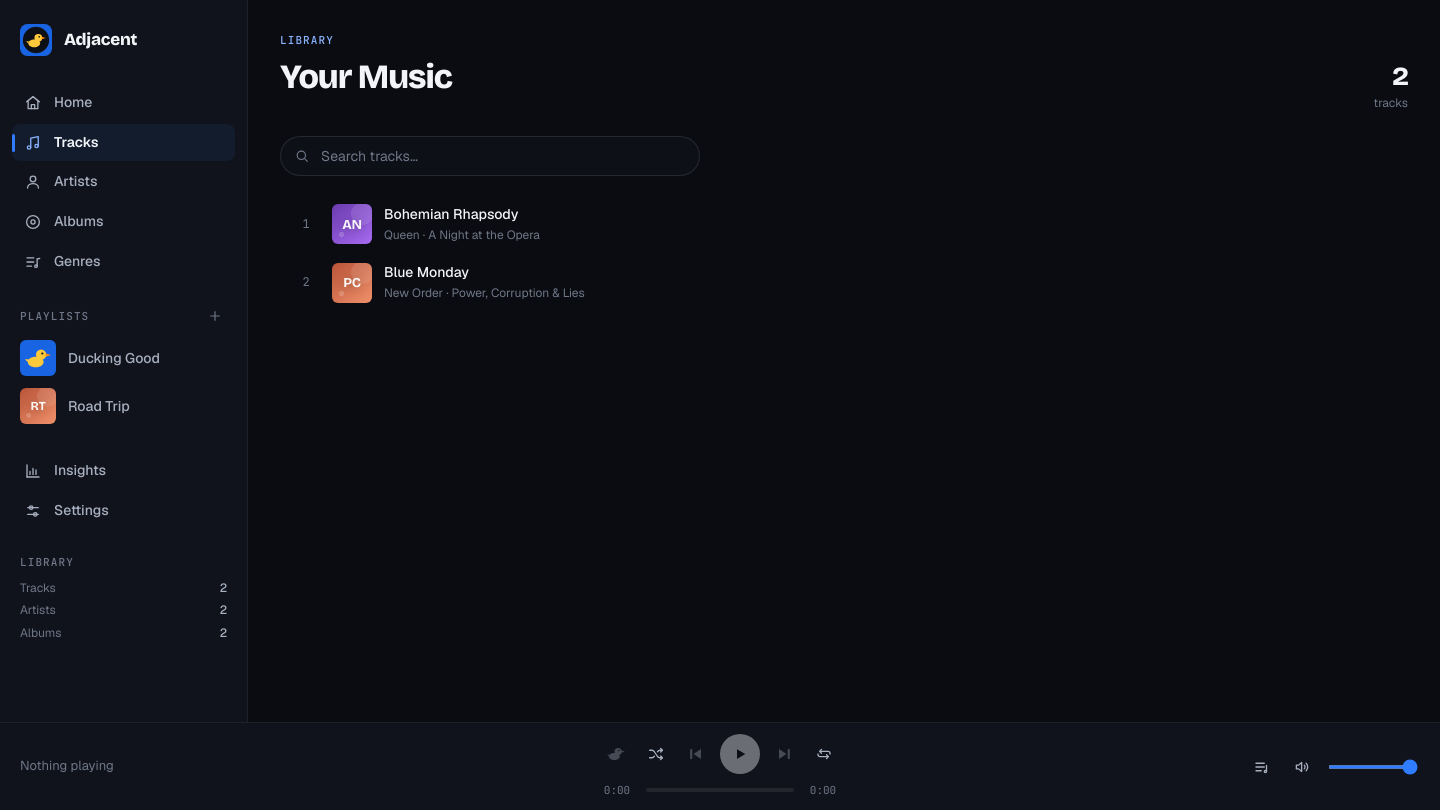
Scenario: Adjacent › navigates to an artist and filters to their tracks
Expected: the navigation bar named "Library" is shown, [12,84,235,280]
What coordinates should you click on to do the following:
click the link with class "nav-item" showing "Artists"
I would click on:
 (61, 182)
Its box is [24,172,97,191].
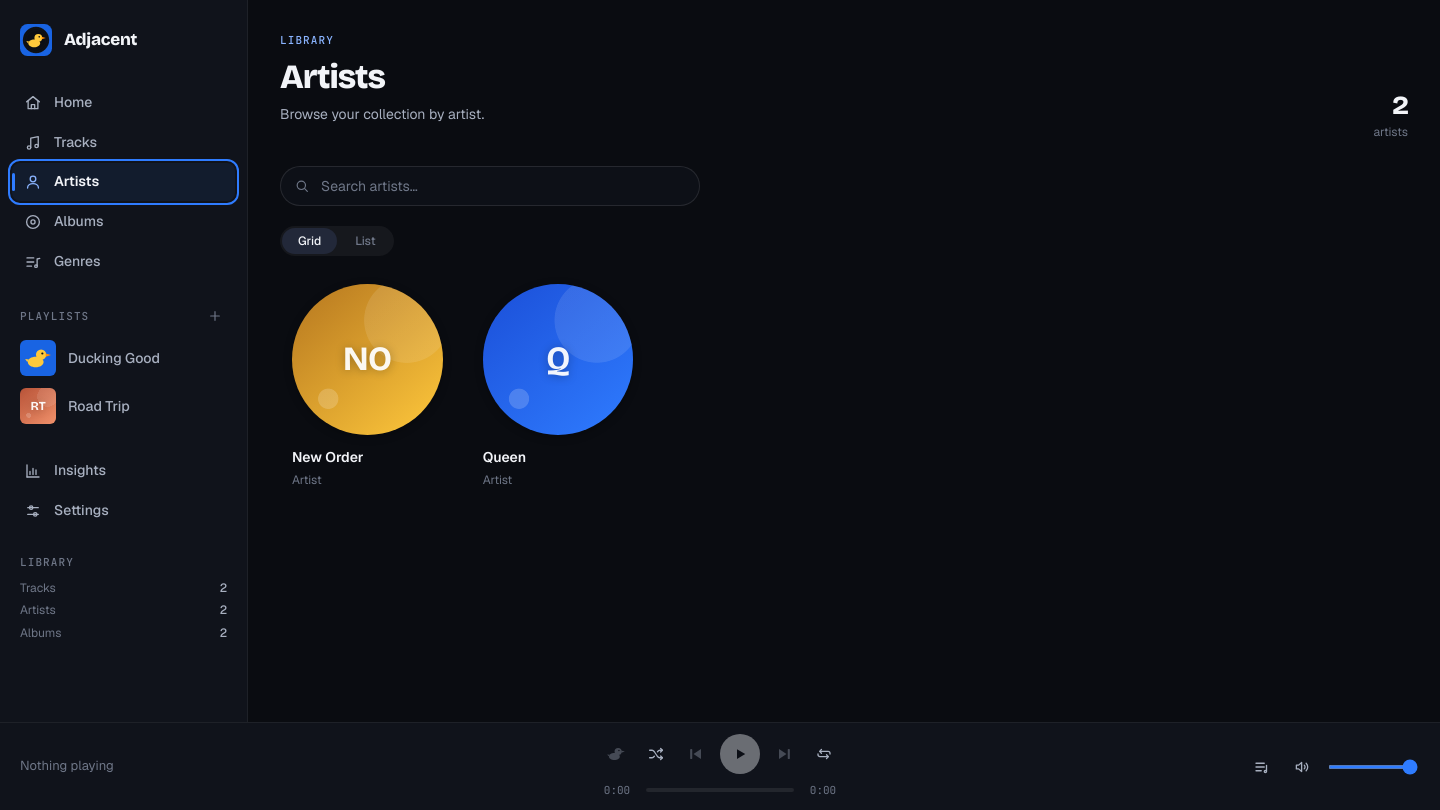
What coordinates should you click on to do the following:
click the text "Queen"
I would click on:
 (504, 457)
Its box is [483,448,526,466].
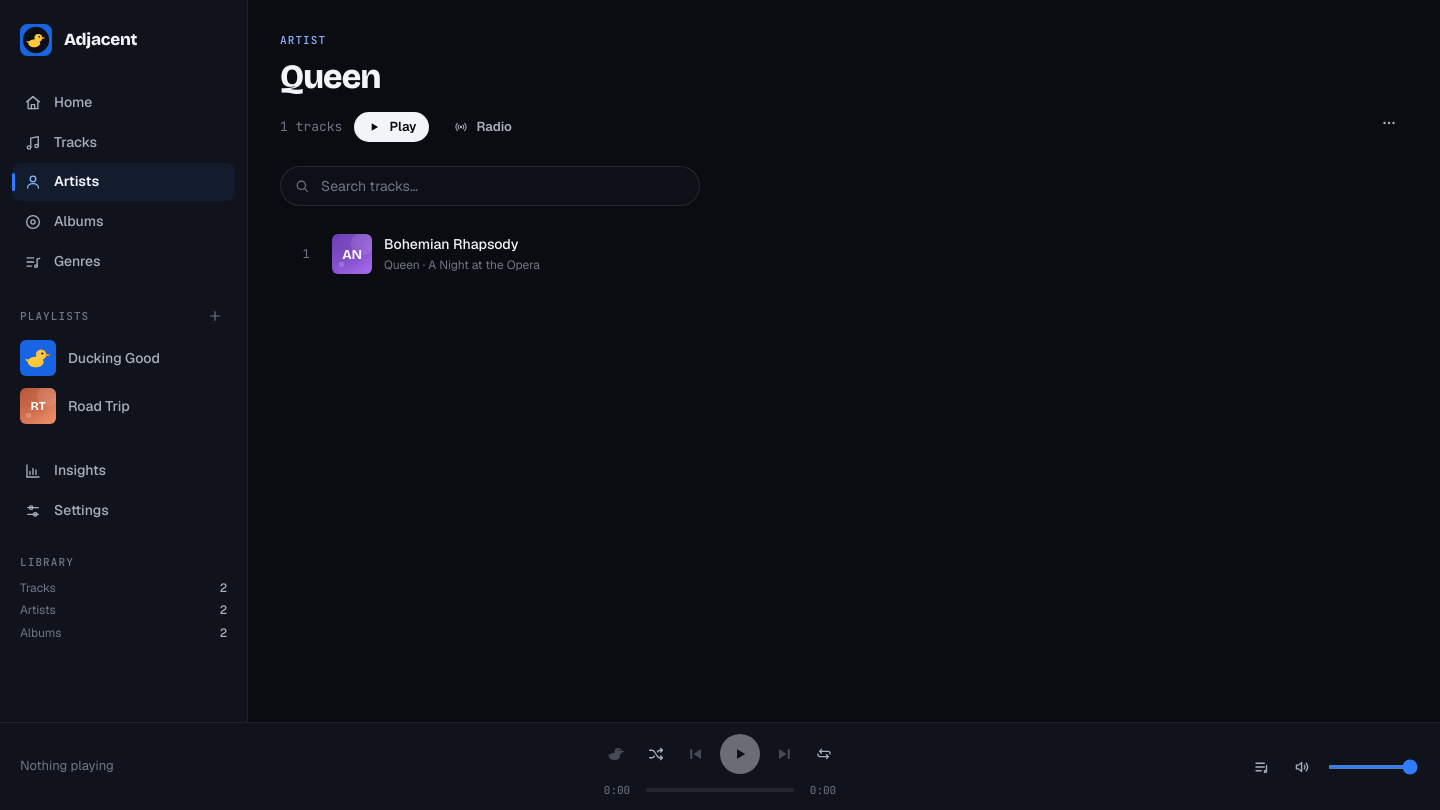
Expected: the button "Blue Monday" is not shown
Result: the heading "Queen" is shown at [280,56,380,97]
